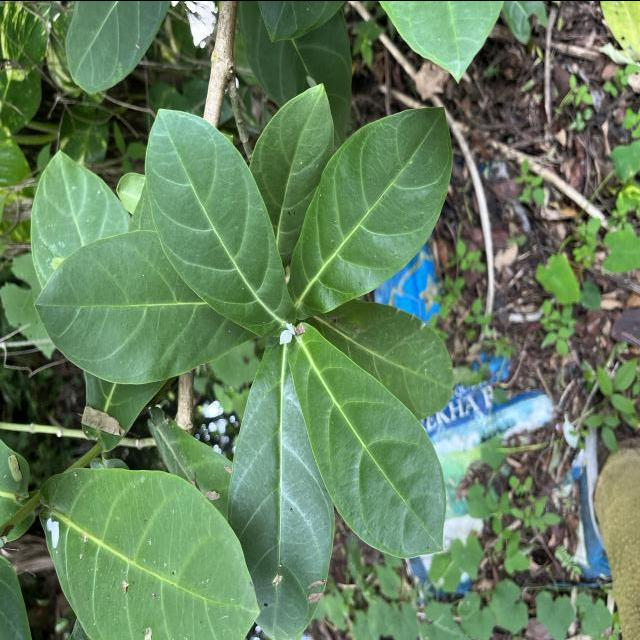Calotropis gigantea: (34, 463, 263, 640), (285, 319, 448, 559), (29, 226, 260, 386), (286, 103, 454, 320), (226, 334, 337, 640), (143, 104, 291, 330), (308, 300, 457, 420)
